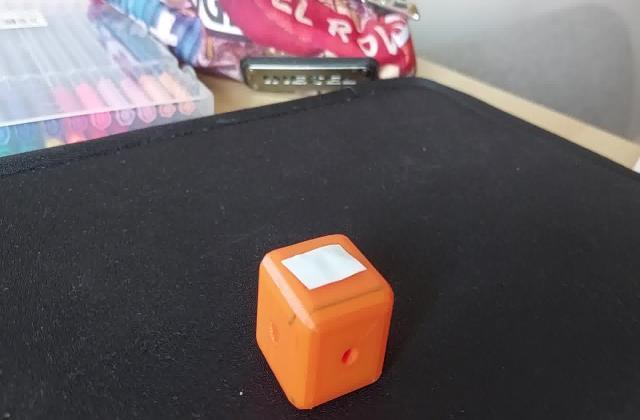cube: (253, 226, 398, 408)
white: (284, 249, 360, 299)
